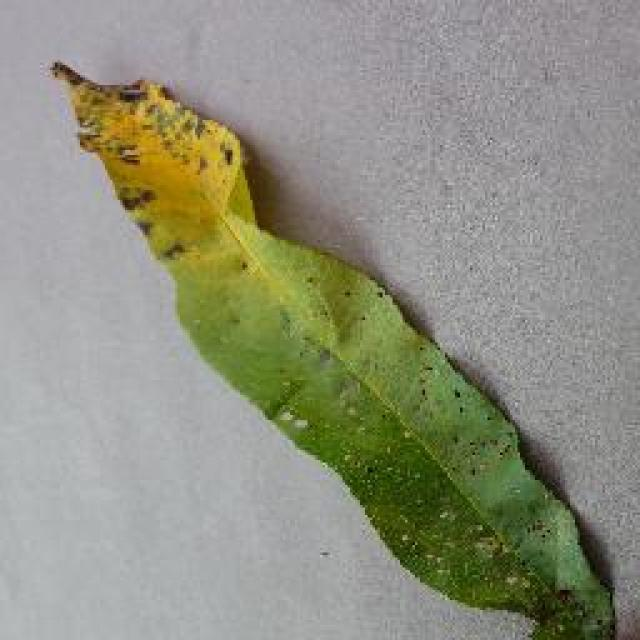Peach_Bacterial_Spot: (47, 62, 458, 483)
